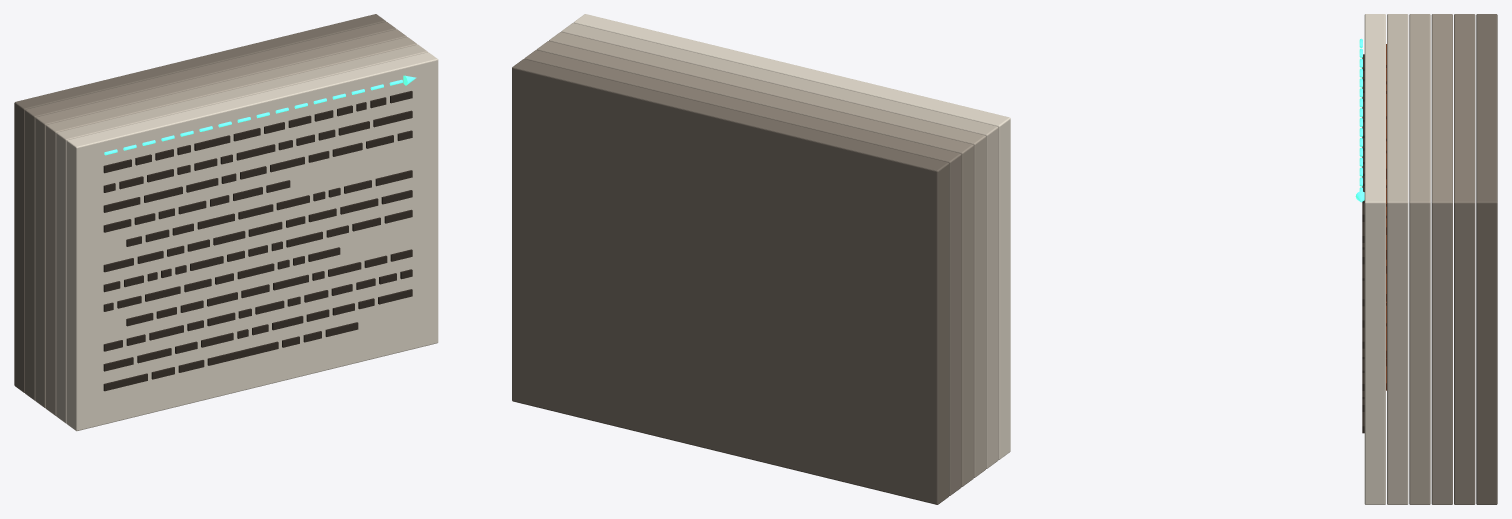
File: estratos.glb
3 views of the same model, side by side, from view 1: azimuth 30°, elevation 25°; view 2: azimuth 150°, elevation 25°; view 3: azimuth 270°, elevation 25° (orthographic). The views are drawn at different scales.
Visible parts, largest first — view 1: losa0, renglones, losa4, losa2, losa3, losa1, losa5, renglon_palindromo, indicadores_tinta, lectura; view 2: losa5, losa0, losa1, losa2, losa3, losa4; view 3: losa2, losa5, losa0, losa1, losa3, losa4, renglones, lectura.
Boxes of the visible parts, x1,y1,x2,y2 form: losa0: (66,52,438,431); renglones: (103,91,412,379); losa4: (25,21,396,400); losa2: (46,37,417,415); losa3: (35,29,406,408); losa1: (56,44,427,423); losa5: (14,14,385,392); renglon_palindromo: (103,269,412,351); indicadores_tinta: (103,341,278,391); lectura: (104,75,416,155); losa5: (512,59,949,504); losa0: (573,14,1010,459); losa1: (561,23,998,468); losa2: (549,32,986,477); losa3: (536,41,973,486); losa4: (524,50,961,495); losa2: (1409,14,1430,504); losa5: (1476,14,1497,504); losa0: (1364,14,1385,504); losa1: (1387,14,1408,504); losa3: (1431,14,1452,504); losa4: (1454,14,1475,504); renglones: (1362,54,1364,433); lectura: (1355,38,1364,202).
Size of the model in its own units: 4 by 3.01 by 3.35.
